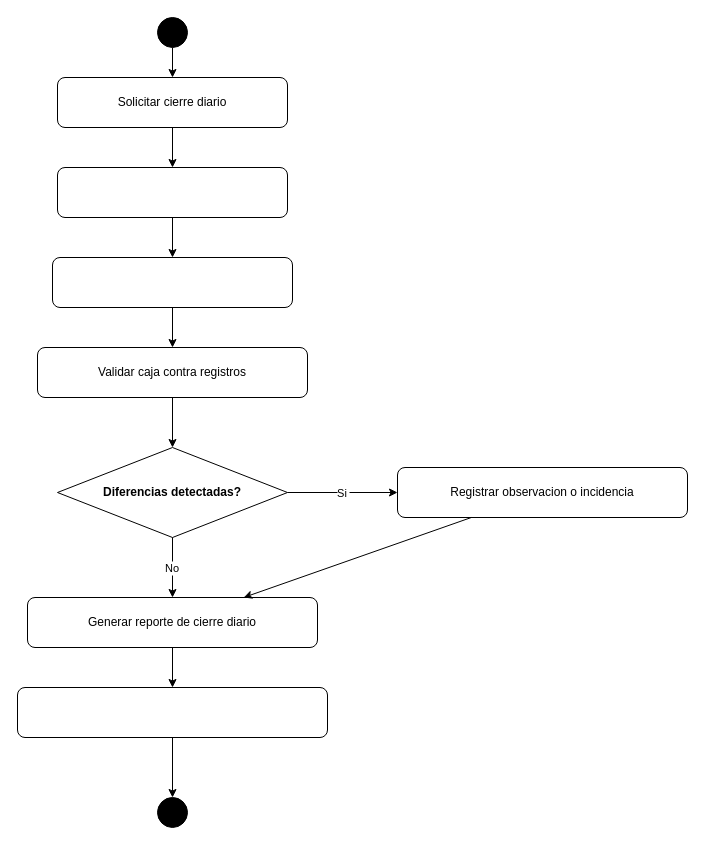
Image size: 705x845. Some labels were removed from this diagram. Each missing label, with the centre of its shape:
Calcular total de ingresos: point (172, 282)
Guardar reporte y dejar trazabilidad: point (172, 712)
Recuperar ventas del dia: point (172, 192)
